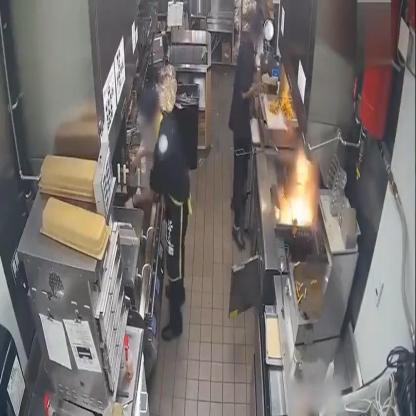fire: (280, 155, 314, 225)
